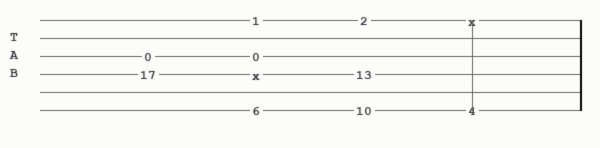0: (144, 50, 156, 62), (252, 50, 264, 62)
1: (252, 14, 264, 26)
10: (356, 104, 376, 116)
13: (356, 68, 376, 80)
17: (140, 68, 160, 80)
2: (360, 14, 372, 26)
4: (468, 104, 480, 116)
6: (252, 104, 264, 116)
x: (252, 69, 264, 79), (468, 15, 480, 25)
